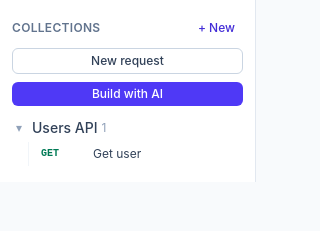
Test: CollectionsSidebar › shows the error message of a failed action
The image size is (320, 231).
Click the button "GET Get user" at (112, 154), box [33,142,191,166]
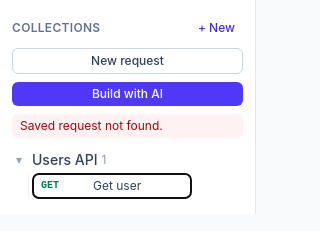
Now the message reads "Saved request not found.", box [20,118,163,133]
